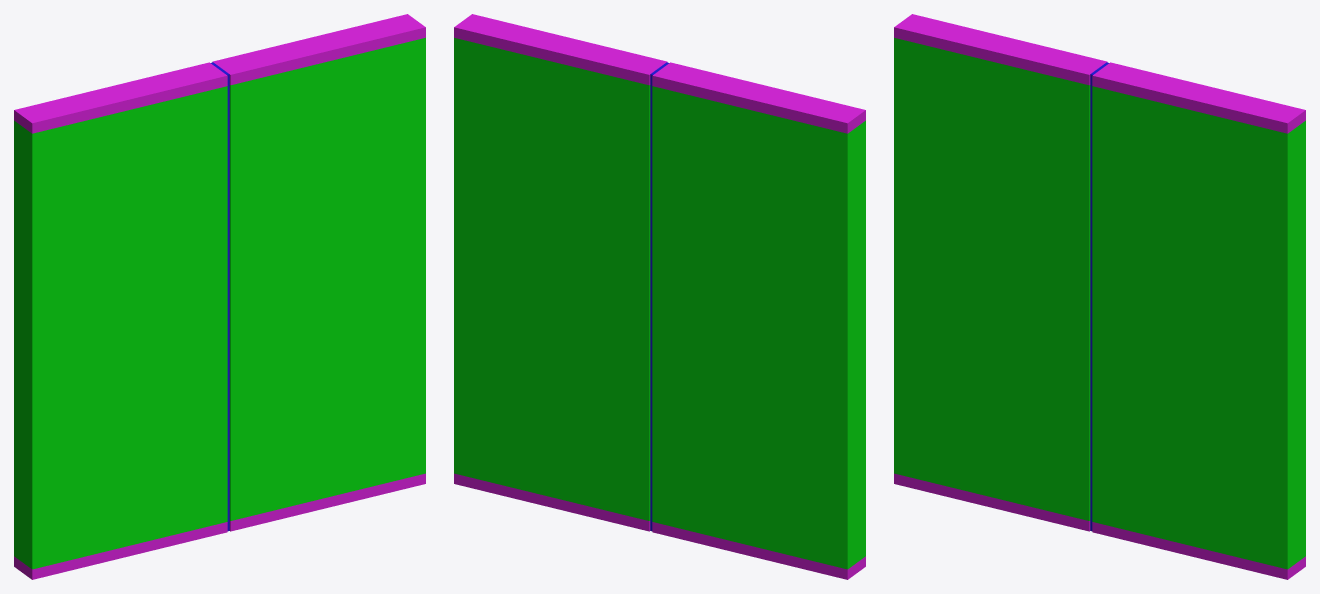
The model's file is Door_09.fbx.
The picture shows the model from 3 angles, left to right: view 1: azimuth 30°, elevation 25°; view 2: azimuth 150°, elevation 25°; view 3: azimuth 330°, elevation 25°; orthographic projection.
Visible parts, largest first — view 1: Door_09_Left, Door_09_Right; view 2: Door_09_Left, Door_09_Right; view 3: Door_09_Right, Door_09_Left.
Part boxes in pixels (x1,y1,x2,y2): Door_09_Left: [14, 62, 228, 579]; Door_09_Right: [212, 14, 425, 531]; Door_09_Left: [651, 62, 865, 579]; Door_09_Right: [454, 14, 667, 531]; Door_09_Right: [1091, 62, 1305, 579]; Door_09_Left: [894, 14, 1107, 531].
Bounding box in the file's own units: 229 × 254 × 18.29.
